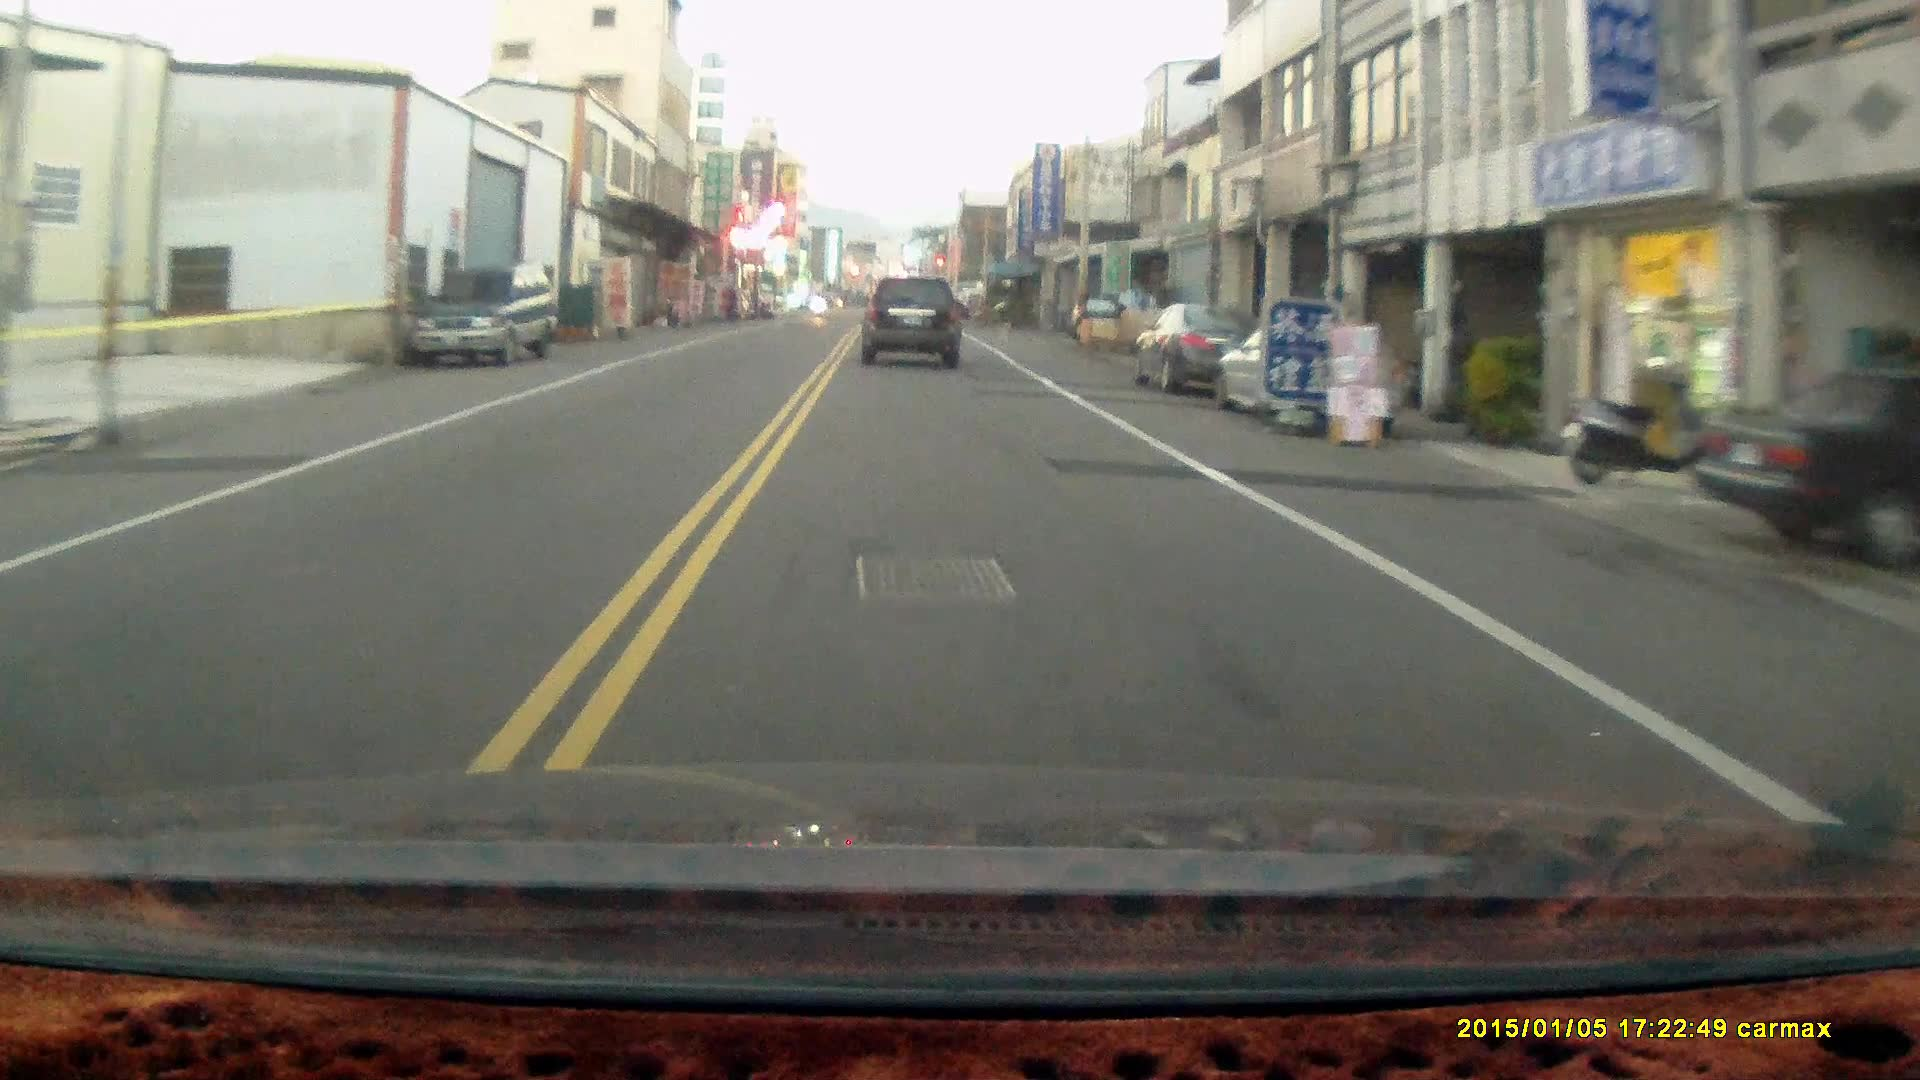vehicle: (1679, 372, 1920, 564), (1215, 328, 1411, 444), (411, 265, 562, 371), (1130, 301, 1278, 396), (860, 274, 964, 368)
